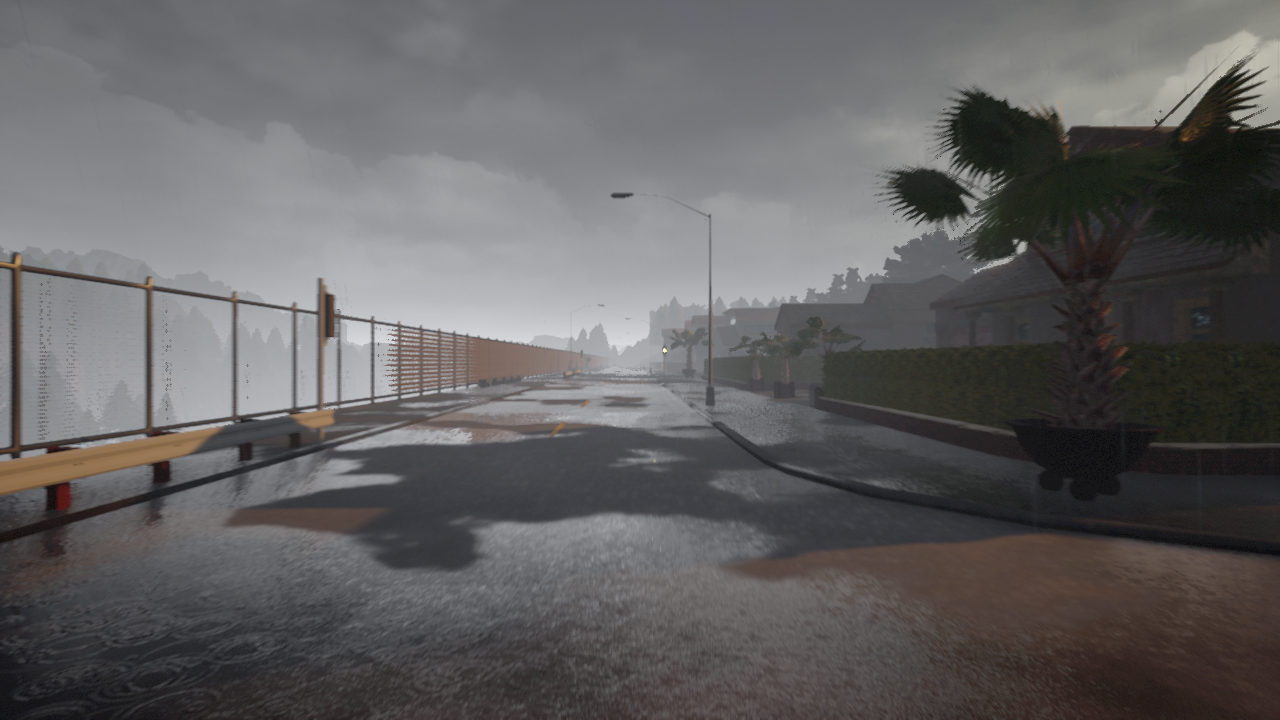yellow: (662, 344, 668, 357)
